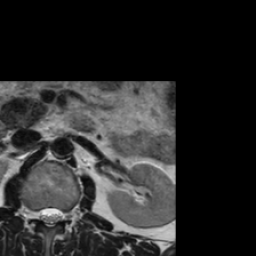CCS_normal: (45, 200, 53, 232)
LFS_normal: (61, 203, 70, 226)
LLS_normal: (53, 202, 61, 227)
RFS_normal: (29, 202, 37, 224)
RLS_normal: (37, 201, 45, 226)
